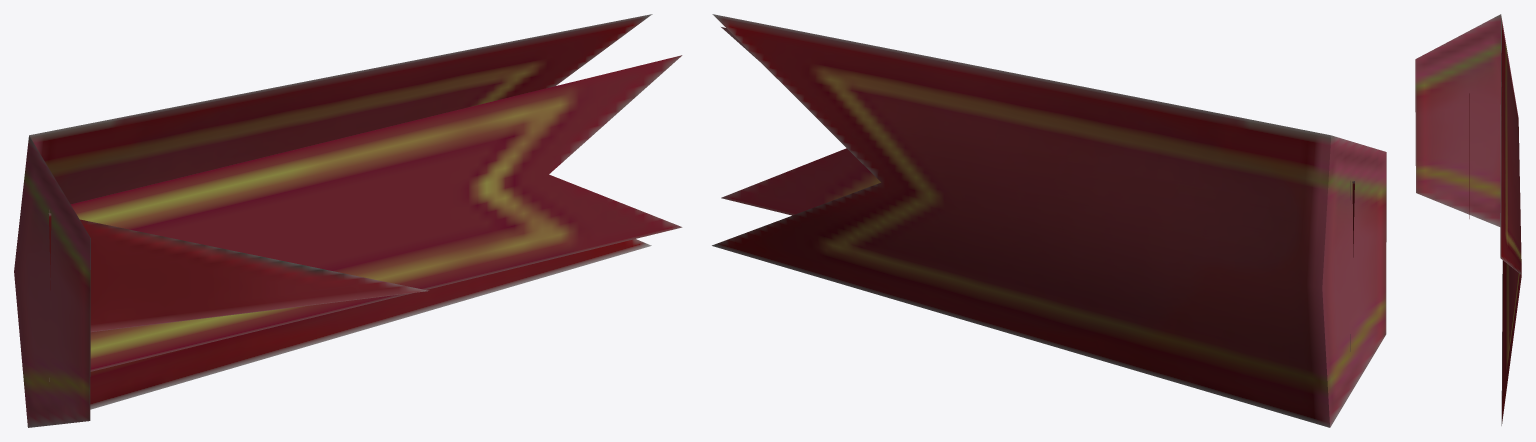
File: COL3BF01flag.FBX
3 views of the same model, side by side, from view 1: azimuth 30°, elevation 25°; view 2: azimuth 150°, elevation 25°; view 3: azimuth 270°, elevation 25° (orthographic). The views are drawn at different scales.
Parts seen in each view (by area): view 1: COL3BF01Flag03, COL3BF01Flag01, COL3BF01Flag02; view 2: COL3BF01Flag01, COL3BF01Flag03; view 3: COL3BF01Flag01, COL3BF01Flag02.
Part boxes in pixels (left/top/right/bottom): COL3BF01Flag03: left=49, top=55, right=682, bottom=381; COL3BF01Flag01: left=14, top=14, right=652, bottom=427; COL3BF01Flag02: left=48, top=213, right=428, bottom=332; COL3BF01Flag01: left=712, top=14, right=1386, bottom=427; COL3BF01Flag03: left=721, top=27, right=1350, bottom=351; COL3BF01Flag01: left=1415, top=14, right=1521, bottom=425; COL3BF01Flag02: left=1469, top=93, right=1469, bottom=218.
Size of the model in its own units: 1252 by 551 by 249.
